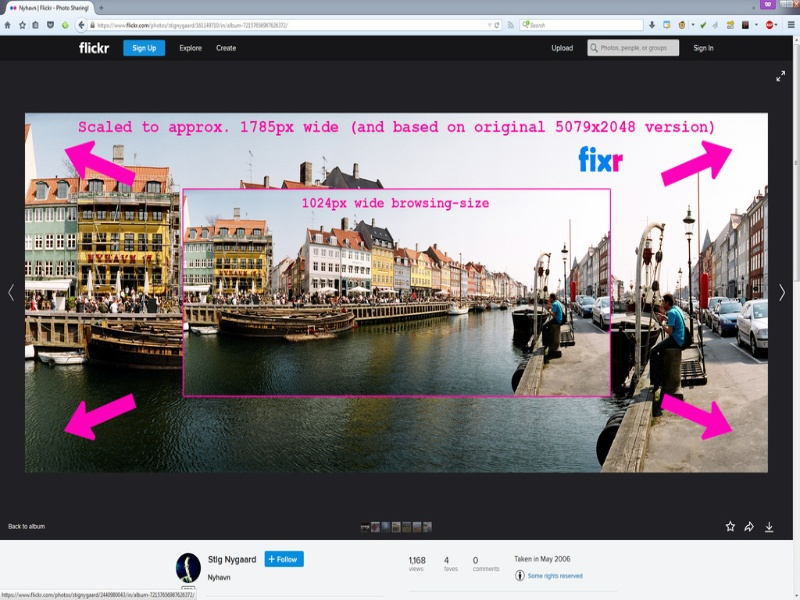person: (654, 293, 686, 385), (541, 289, 566, 354)
